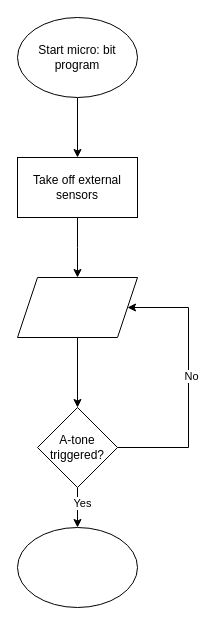
The diagram is 215 pixels wide and 625 high, and some of its shapes have lost their labels. The shapes that lost their labels are listed below. From the top down, each one's centre as x and y in pixels, then its label:
the point at 77,307: Read temperature from heated environment
the point at 77,567: Success
